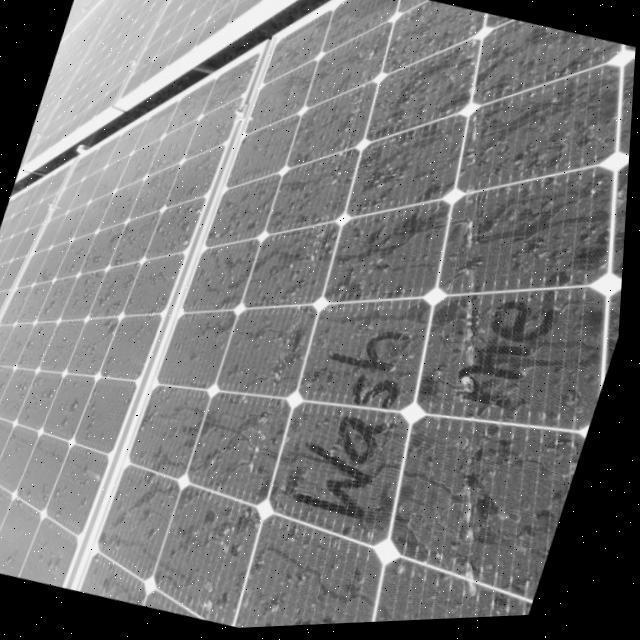Anomaly Solar Panel: (0, 0, 637, 630), (24, 0, 254, 160)
Surface Contaminant: (0, 0, 637, 630), (25, 0, 251, 156)
